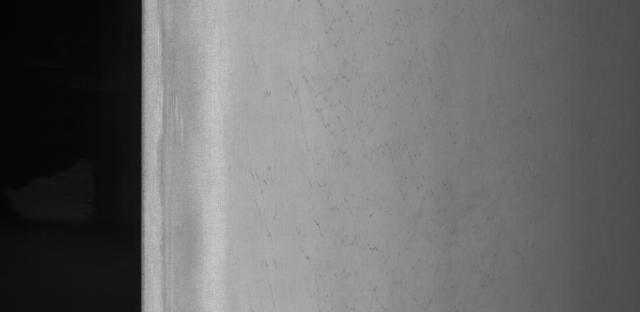silk_spot: (245, 85, 435, 288)
